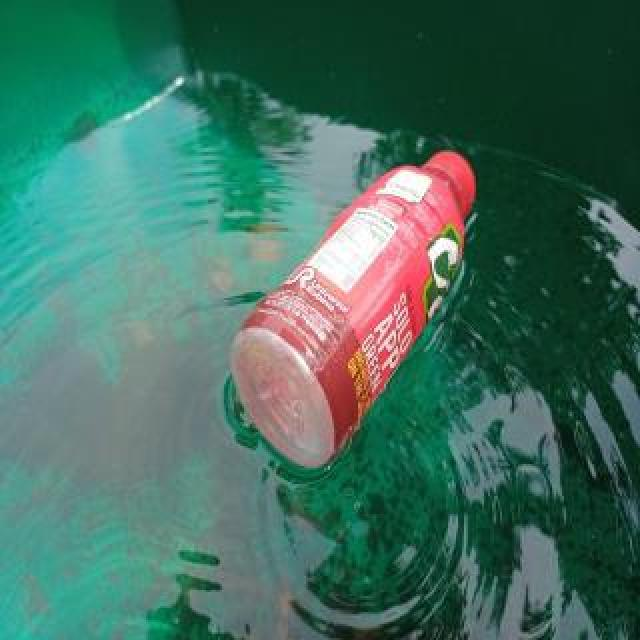bottle: (227, 144, 481, 472)
